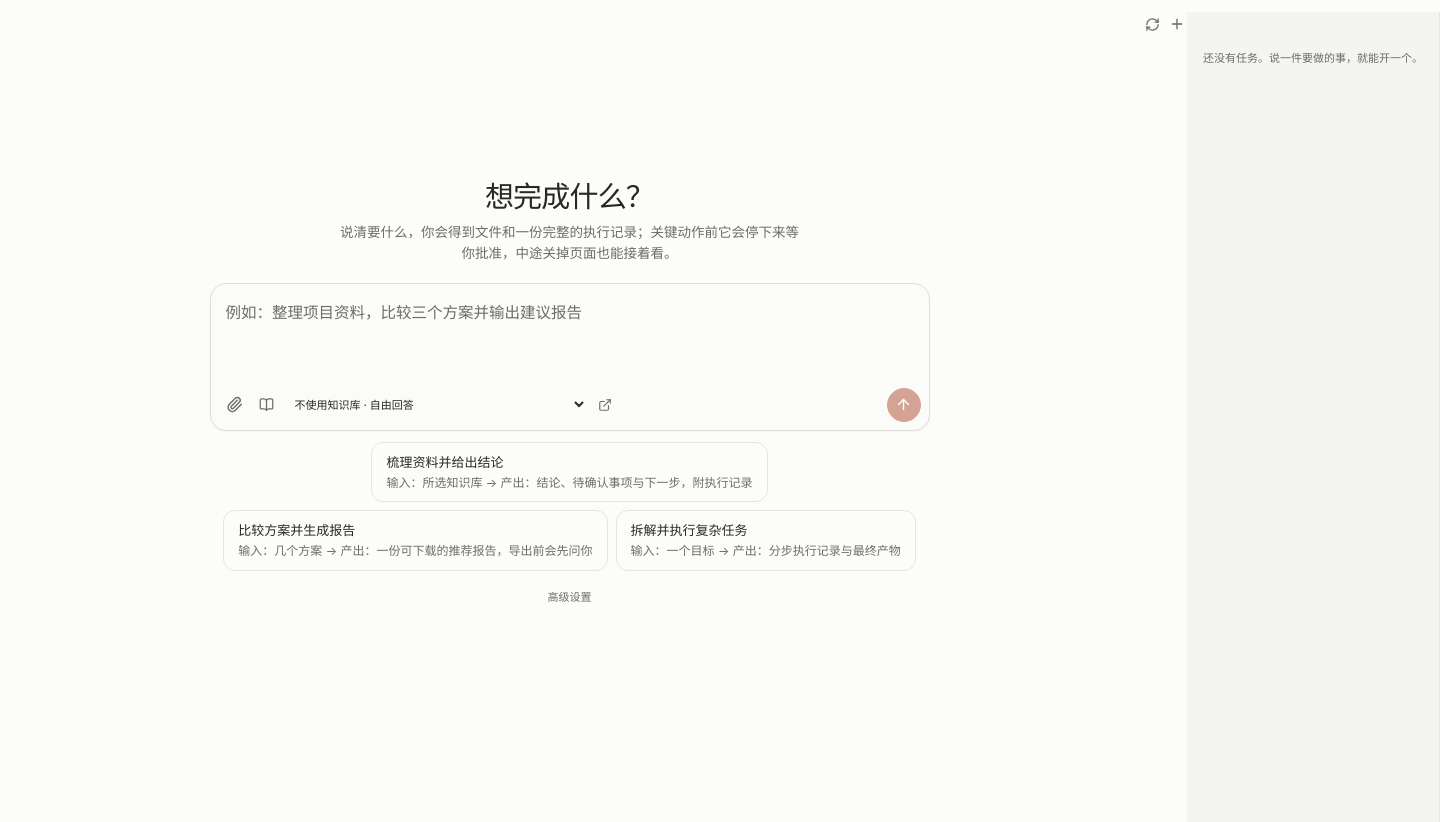
Test: WorkPage task submission › tells the submitter what this deployment allows a task to delegate
The image size is (1440, 822).
Click the heading "高级设置": (570, 597) [548,590,592,604]
(page scrolled)
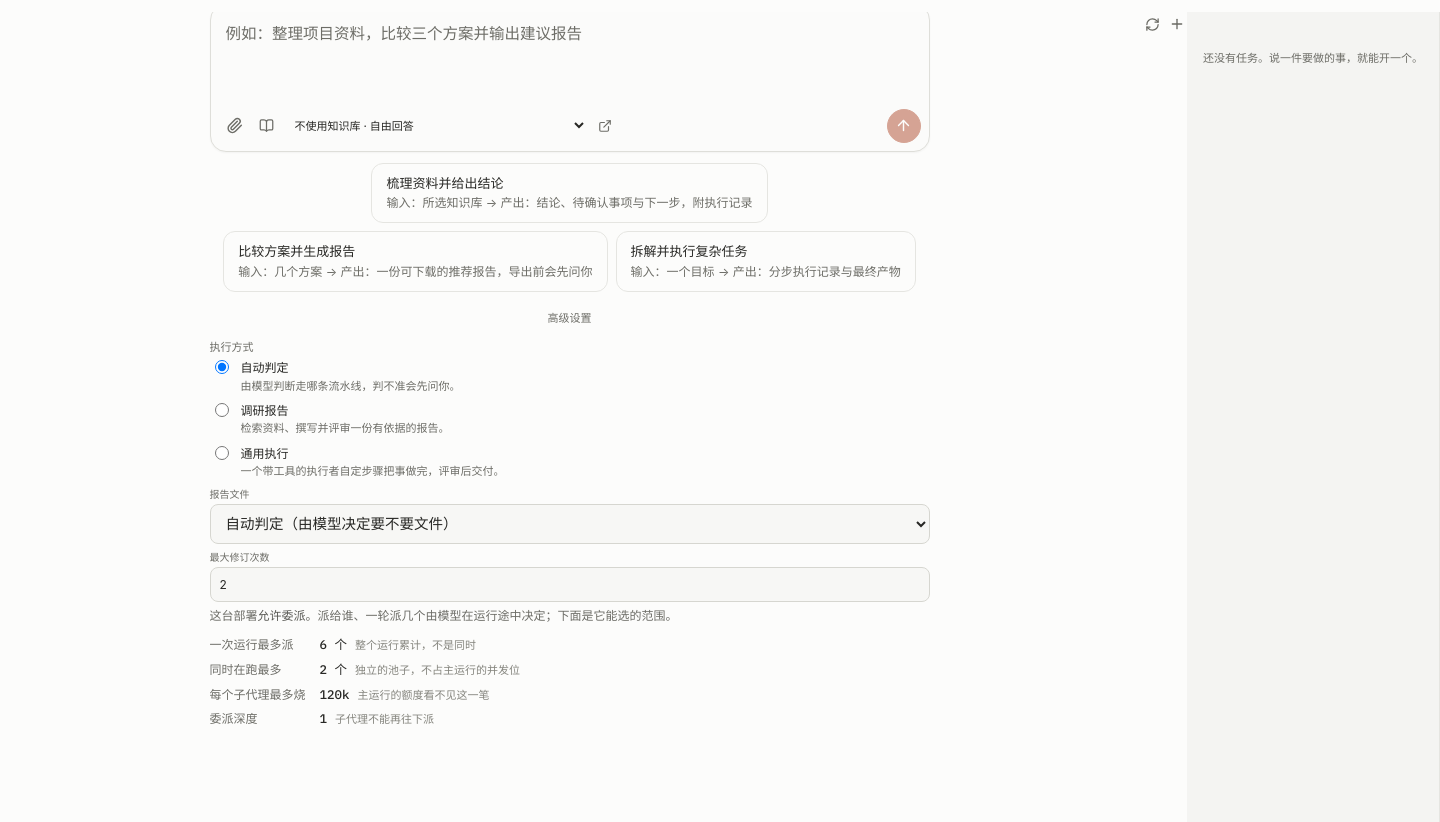
Check: the text "允许委派" shows "由模型在运行途中", box [306,608,678,623]
Check: the text "允许委派" shows "6 个", box [210,608,678,726]
Check: the text "允许委派" shows "2 个", box [210,608,678,726]
